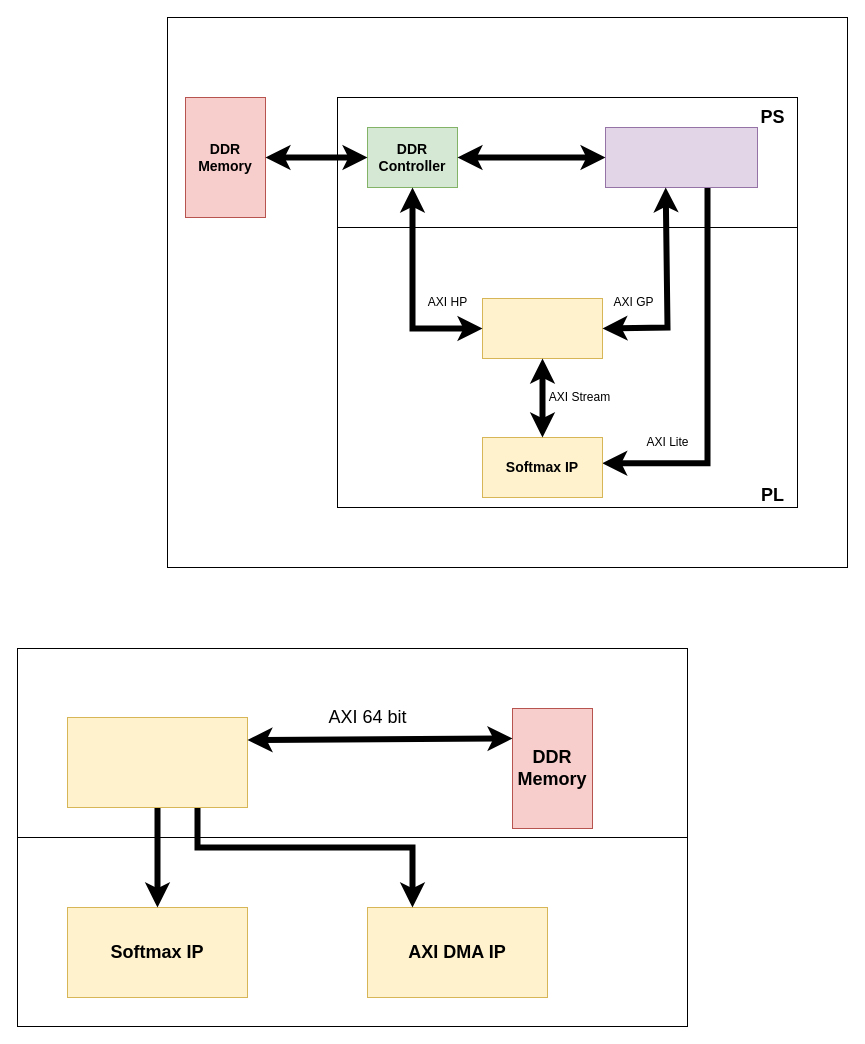
The diagram is 865 pixels wide and 1044 high, and some of its shapes have lost their labels. The shapes that lost their labels are listed below. From the top down, each one's centre as x and y in pixels, then its label:
point (681, 157): ARM Cortex-A9
point (542, 328): DMA IP
point (157, 762): APU (ARM Cortex A9)
